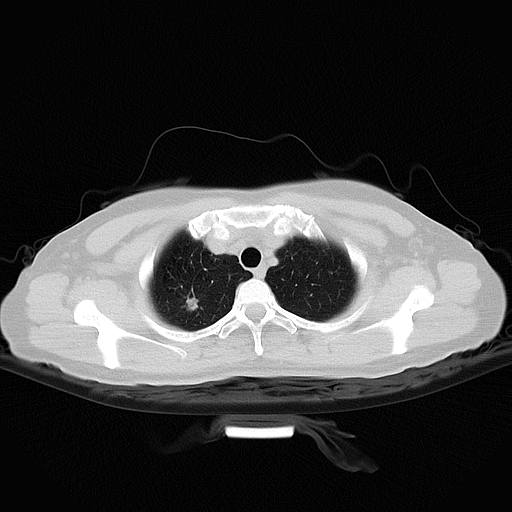nodule: (184, 296, 199, 312)
